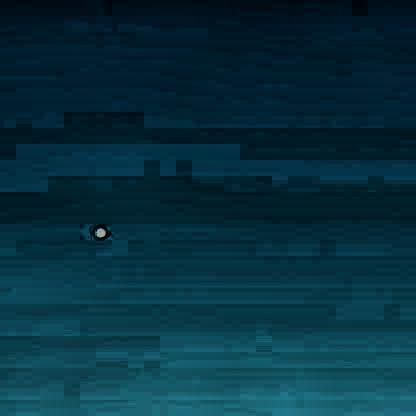golfball: (91, 222, 106, 237)
